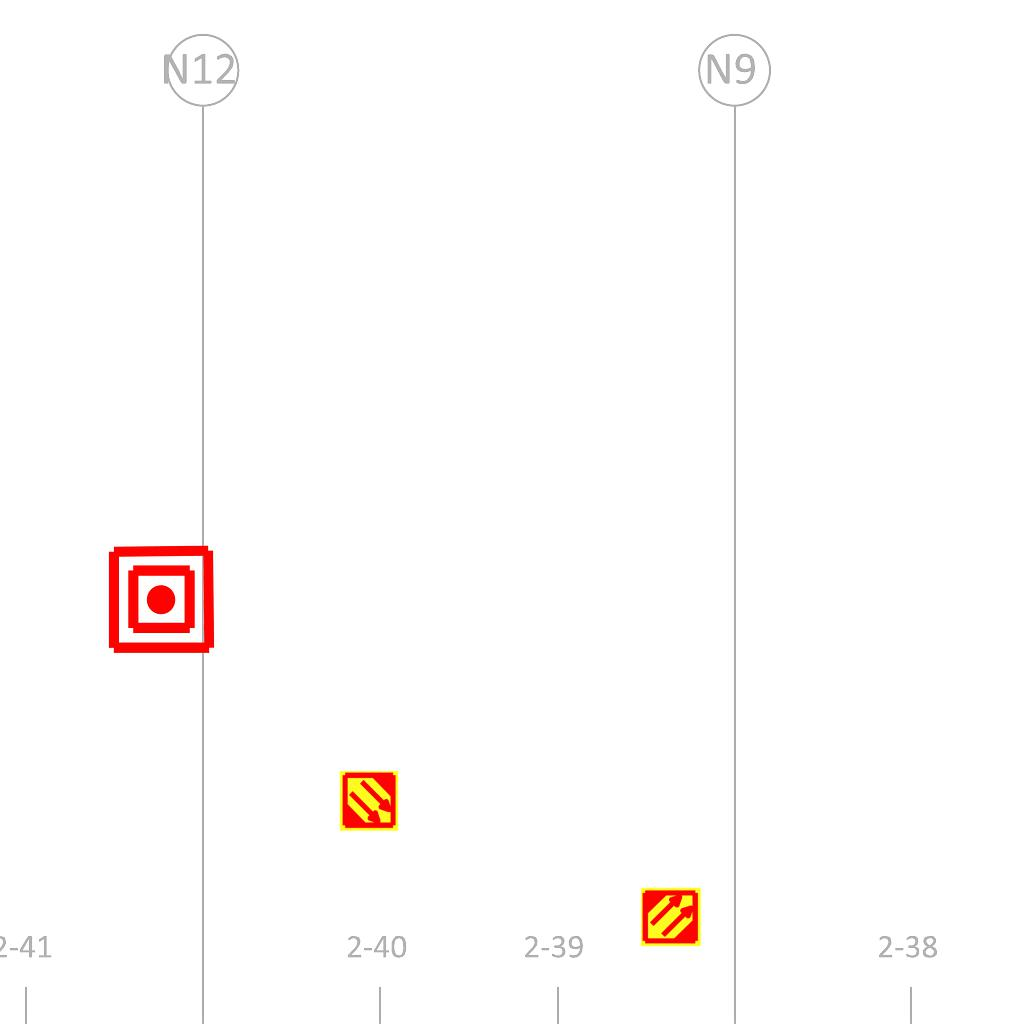ASR_Ansaugrauchmelder: (338, 770, 400, 832), (640, 886, 702, 948)
NAM-Nichtautomatischer_Melder: (105, 543, 218, 656)
